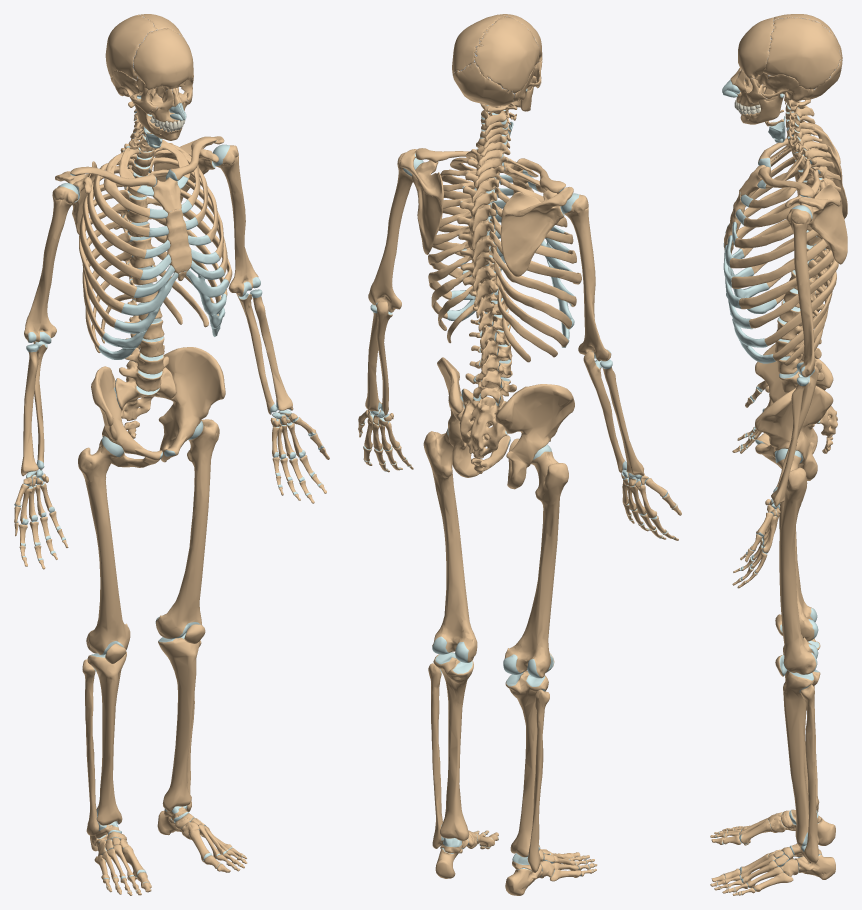
The model's file is z-anatomy-skeletal.glb.
3 renders of one model, left to right at view 1: azimuth 30°, elevation 25°; view 2: azimuth 150°, elevation 25°; view 3: azimuth 270°, elevation 25°, orthographic. The views are drawn at different scales.
Visible parts, largest first — view 1: Femur.r.001, Femur.l.001, Hip bone.l.001, Tibia.l.001, Frontal bone.001, Tibia.r.001, Humerus.r.001, Humerus.l.001, Hip bone.r.001, Parietal bone.r.001, Sacrum.001, Fibula.r.001 (+18 smaller); view 2: Femur.r.001, Femur.l.001, Hip bone.r.001, Scapula.r.001, Parietal bone.r.001, Tibia.l.001, Tibia.r.001, Humerus.r.001, Humerus.l.001, Hip bone.l.001, Scapula.l.001, Sacrum.001 (+15 smaller); view 3: Femur.l.001, Parietal bone.l.001, Tibia.l.001, Hip bone.l.001, Humerus.l.001, Scapula.l.001, Fibula.l.001, Frontal bone.001, Hip bone.r.001, Radius.l.001, Femur.r.001, Seventh rib.l.001 (+28 smaller).
Part boxes in pixels (x1,y1,x2,y2): Femur.r.001: [78, 436, 130, 655]; Femur.l.001: [155, 419, 219, 639]; Hip bone.l.001: [158, 347, 225, 462]; Tibia.l.001: [158, 633, 200, 811]; Frontal bone.001: [133, 28, 193, 91]; Tibia.r.001: [87, 652, 126, 825]; Humerus.r.001: [24, 183, 78, 344]; Humerus.l.001: [212, 144, 260, 296]; Hip bone.r.001: [91, 366, 162, 467]; Parietal bone.r.001: [105, 14, 157, 79]; Sacrum.001: [115, 367, 175, 420]; Fibula.r.001: [82, 659, 99, 835]; Femur.r.001: [503, 444, 568, 678]; Femur.l.001: [423, 428, 477, 662]; Hip bone.r.001: [495, 384, 574, 489]; Scapula.r.001: [500, 187, 573, 276]; Parietal bone.r.001: [474, 16, 539, 93]; Tibia.l.001: [433, 652, 473, 840]; Tibia.r.001: [505, 671, 548, 857]; Humerus.r.001: [561, 193, 611, 361]; Humerus.l.001: [368, 152, 423, 312]; Hip bone.l.001: [437, 357, 510, 477]; Scapula.l.001: [400, 149, 443, 254]; Sacrum.001: [459, 388, 507, 458]; Femur.l.001: [775, 448, 818, 674]; Parietal bone.l.001: [763, 17, 840, 89]; Tibia.l.001: [783, 669, 820, 846]; Hip bone.l.001: [755, 386, 833, 480]; Humerus.l.001: [786, 205, 815, 377]; Scapula.l.001: [785, 183, 847, 264]; Fibula.l.001: [800, 684, 818, 863]; Frontal bone.001: [738, 17, 774, 78]; Hip bone.r.001: [755, 343, 833, 453]; Radius.l.001: [771, 377, 808, 506]; Femur.r.001: [779, 470, 818, 641]; Seventh rib.l.001: [739, 249, 834, 309].
Bounding box in the file's own units: 0.6692 × 1.7 × 0.2501.
